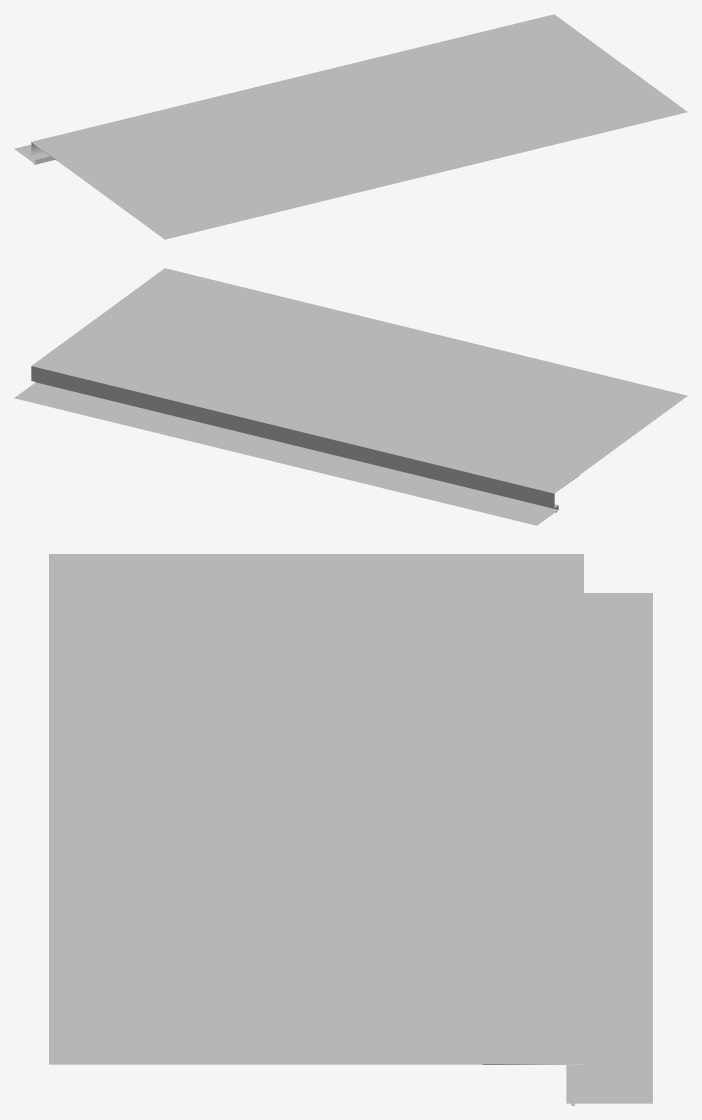
File: Ceiling02_5_700x350cm.FBX
3 views of the same model, one above another, from view 1: azimuth 30°, elevation 25°; view 2: azimuth 150°, elevation 25°; view 3: azimuth 270°, elevation 25° (orthographic). The views are drawn at different scales.
Parts seen in each view (by area): view 1: Ceiling; view 2: Ceiling; view 3: Ceiling.
Part boxes in pixels (box(x1,y1,x2,y2)): Ceiling: box(14, 14, 687, 239); Ceiling: box(14, 268, 687, 525); Ceiling: box(49, 554, 652, 1103).
Size of the model in its own units: 700 by 26.5 by 350.
